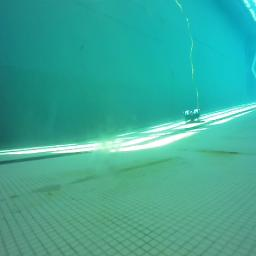front: (182, 108, 202, 124)
